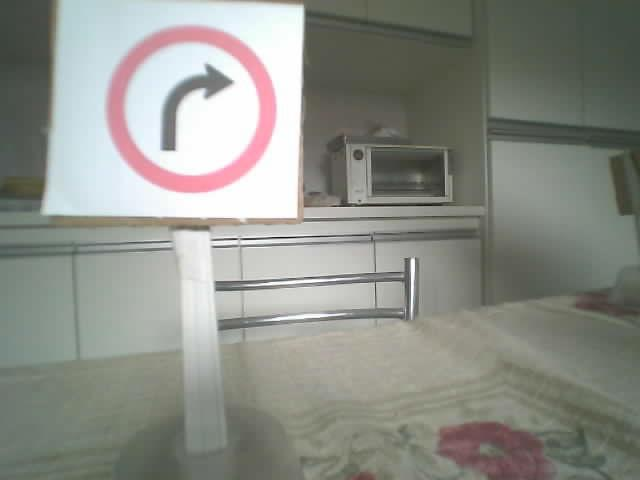R-25b_direita: (104, 24, 277, 193)
